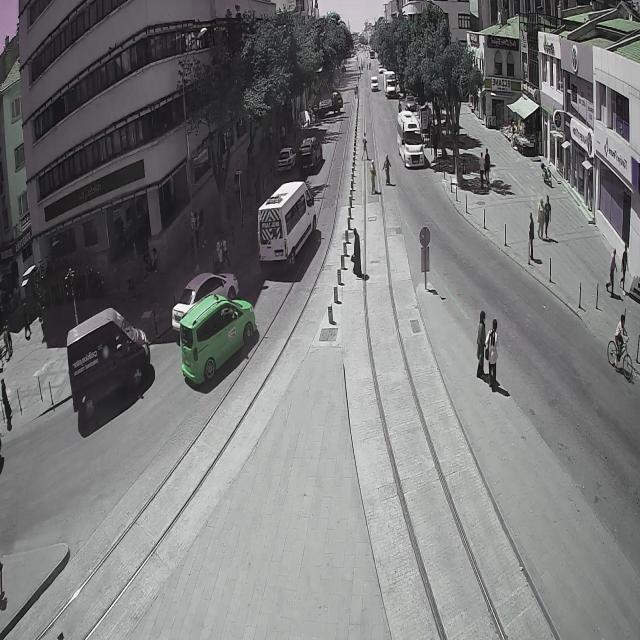Car: (178, 292, 260, 384), (168, 273, 240, 338), (276, 146, 296, 172)
Truck: (312, 90, 344, 120), (384, 70, 398, 98)
Van: (66, 305, 152, 422), (256, 180, 318, 270), (396, 109, 426, 169), (370, 76, 380, 92)
